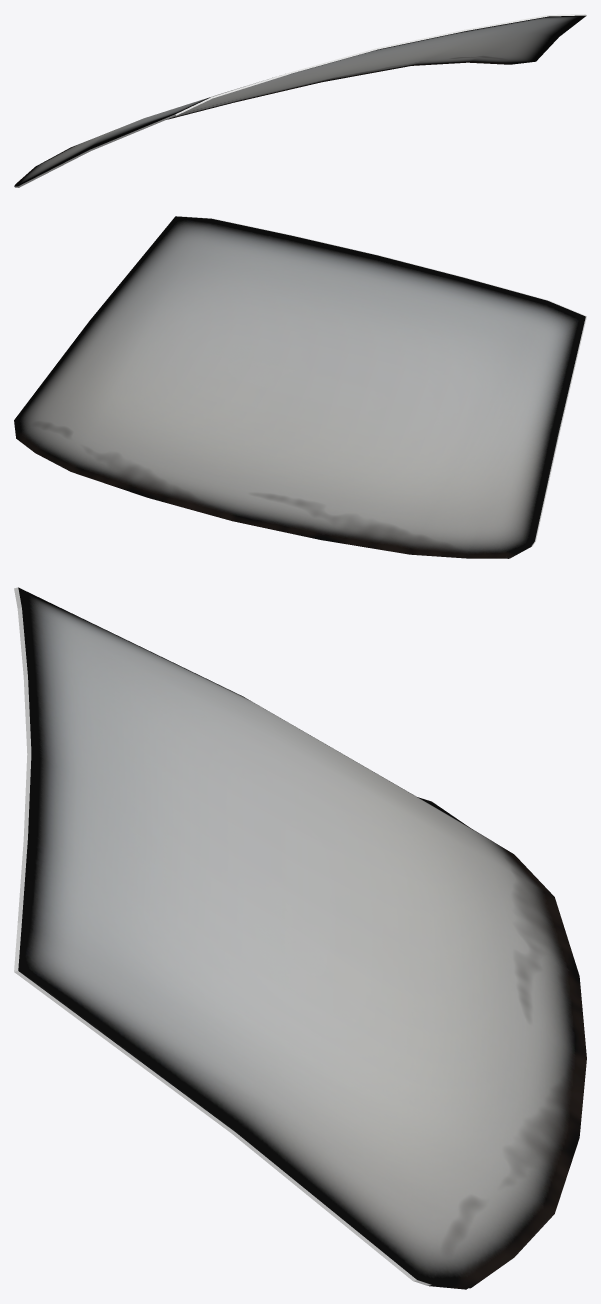
File: SampleCar_01_Glass_F.fbx
The picture shows the model from 3 angles, top to bottom: view 1: azimuth 30°, elevation 25°; view 2: azimuth 150°, elevation 25°; view 3: azimuth 270°, elevation 25°; orthographic projection. The views are drawn at different scales.
Visible parts, largest first — view 1: glass_LOD0, UTM_Glass; view 2: glass_LOD0, UTM_Glass; view 3: glass_LOD0, UTM_Glass.
Boxes of the visible parts, <box> form: glass_LOD0: <box>14,15,586,186</box>; UTM_Glass: <box>14,14,586,187</box>; glass_LOD0: <box>14,216,585,558</box>; UTM_Glass: <box>177,216,586,546</box>; glass_LOD0: <box>18,587,586,1289</box>; UTM_Glass: <box>14,587,431,1285</box>.
Bounding box in the file's own units: 141 × 41.77 × 70.73.
